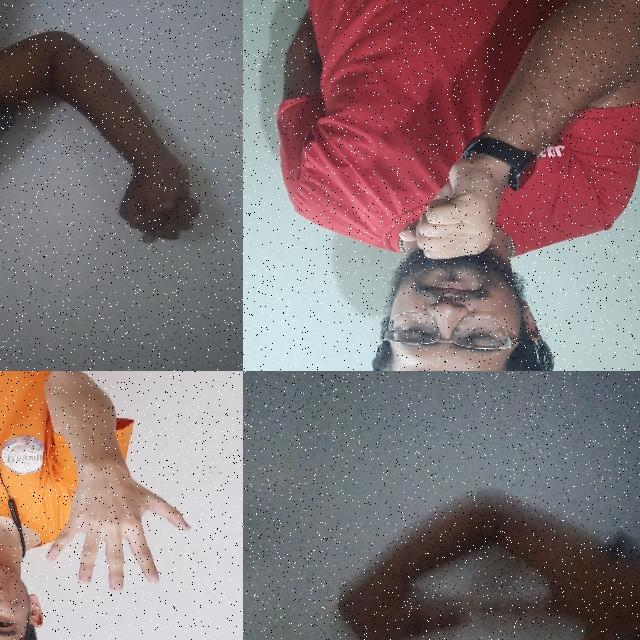Dulya: (113, 140, 209, 258)
Fist Mouth: (378, 140, 552, 371)
Five Fathers: (315, 530, 640, 640)
Moutza: (38, 462, 198, 604)
